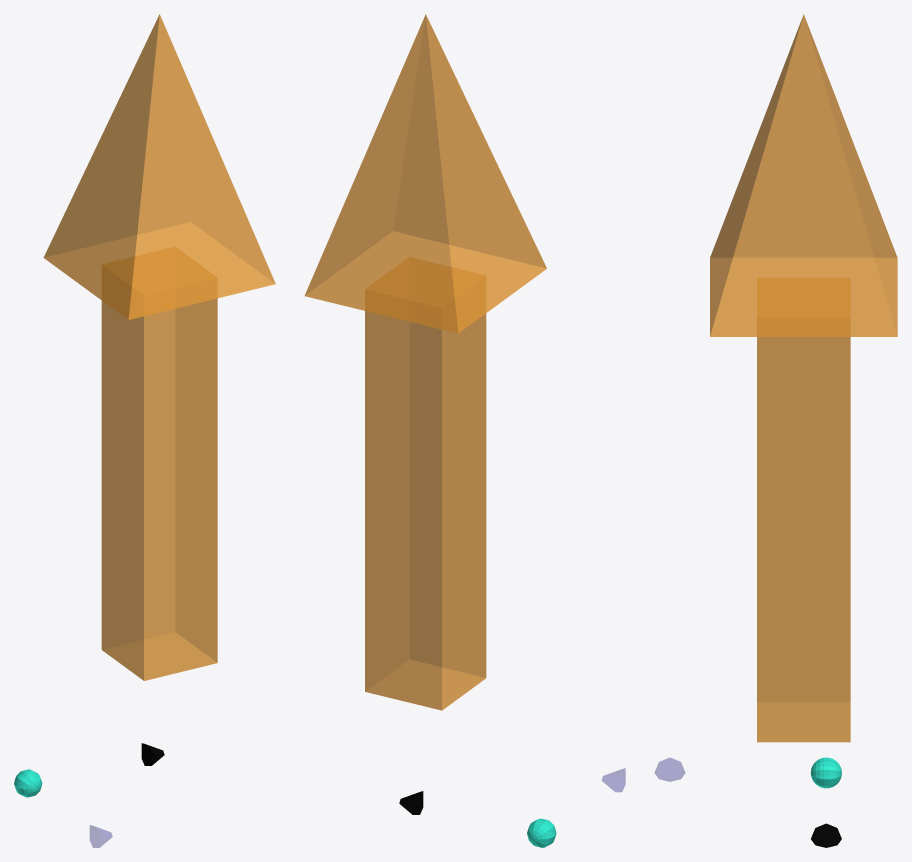
File: arrow_test.obj
3 views of the same model, side by side, from view 1: azimuth 30°, elevation 25°; view 2: azimuth 150°, elevation 25°; view 3: azimuth 270°, elevation 25° (orthographic). The views are drawn at different scales.
Parts seen in each view (by area): view 1: arrowX, sphere1; view 2: arrowX, sphere1; view 3: arrowX, sphere1, sphere3, sphere2.
Boxes of the visible parts, x1,y1,x2,y2 form: arrowX: (43, 14, 275, 680); sphere1: (14, 769, 42, 797); arrowX: (304, 14, 546, 710); sphere1: (527, 818, 556, 847); arrowX: (710, 14, 897, 742); sphere1: (810, 757, 841, 788); sphere3: (811, 823, 841, 847); sphere2: (654, 757, 685, 781).
Size of the model in its own units: 1.69 by 5.91 by 1.56.
